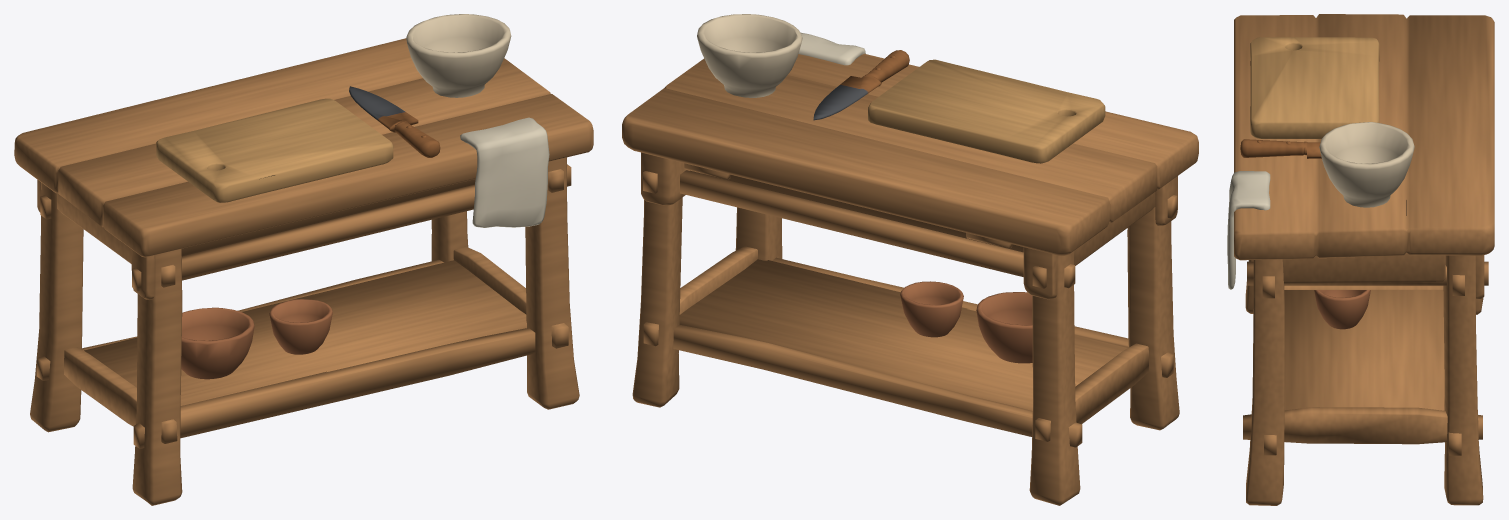
File: cooking_table.fbx
The picture shows the model from 3 angles, left to right: view 1: azimuth 30°, elevation 25°; view 2: azimuth 150°, elevation 25°; view 3: azimuth 270°, elevation 25°; orthographic projection.
Parts seen in each view (by area): view 1: cooking_table_Body, cooking_table_CuttingBoard, cooking_table_Cloth, cooking_table_ShelfBowls, cooking_table_MixingBowl, cooking_table_Knife; view 2: cooking_table_Body, cooking_table_CuttingBoard, cooking_table_MixingBowl, cooking_table_ShelfBowls, cooking_table_Knife, cooking_table_Cloth; view 3: cooking_table_Body, cooking_table_CuttingBoard, cooking_table_MixingBowl, cooking_table_Cloth, cooking_table_ShelfBowls, cooking_table_Knife.
Boxes of the visible parts, <box> form: cooking_table_Body: <box>14,38,593,505</box>; cooking_table_CuttingBoard: <box>156,98,393,202</box>; cooking_table_Cloth: <box>460,117,549,227</box>; cooking_table_ShelfBowls: <box>181,299,332,379</box>; cooking_table_MixingBowl: <box>406,14,511,97</box>; cooking_table_Knife: <box>349,86,440,157</box>; cooking_table_Body: <box>622,53,1198,505</box>; cooking_table_CuttingBoard: <box>868,59,1105,163</box>; cooking_table_MixingBowl: <box>697,14,802,97</box>; cooking_table_ShelfBowls: <box>900,281,1032,363</box>; cooking_table_Knife: <box>813,50,909,120</box>; cooking_table_Cloth: <box>798,32,865,65</box>; cooking_table_Body: <box>1234,14,1494,505</box>; cooking_table_CuttingBoard: <box>1250,37,1379,138</box>; cooking_table_MixingBowl: <box>1319,122,1414,207</box>; cooking_table_Cloth: <box>1227,171,1270,289</box>; cooking_table_ShelfBowls: <box>1314,290,1370,329</box>; cooking_table_Knife: <box>1240,139,1321,158</box>.
Size of the model in its own units: 1.25 by 0.9002 by 0.65.
1 material, 1 textured.
